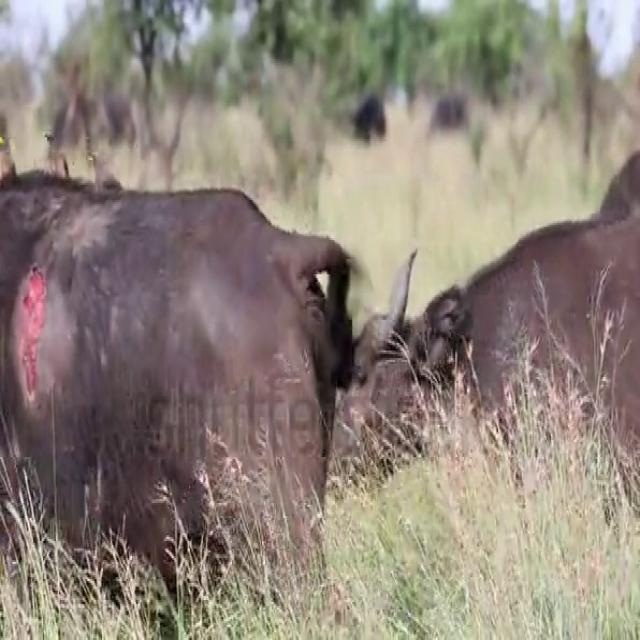injured-animals: (2, 173, 363, 600)
